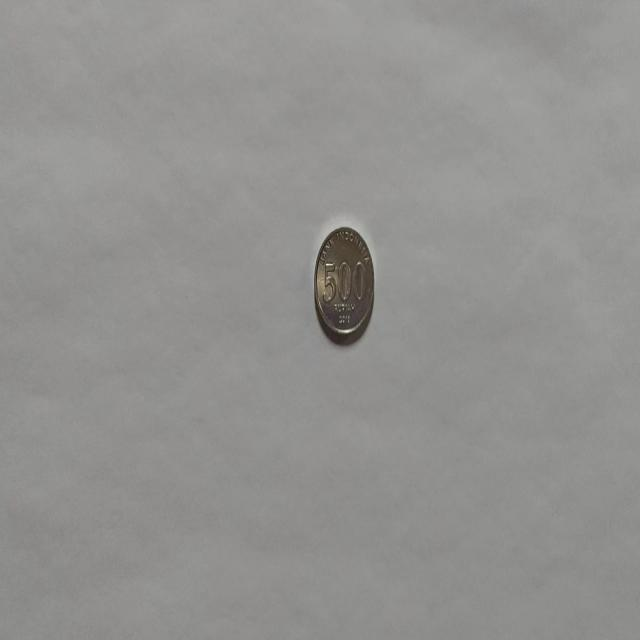lima ratus rupiah: (313, 224, 375, 343)
